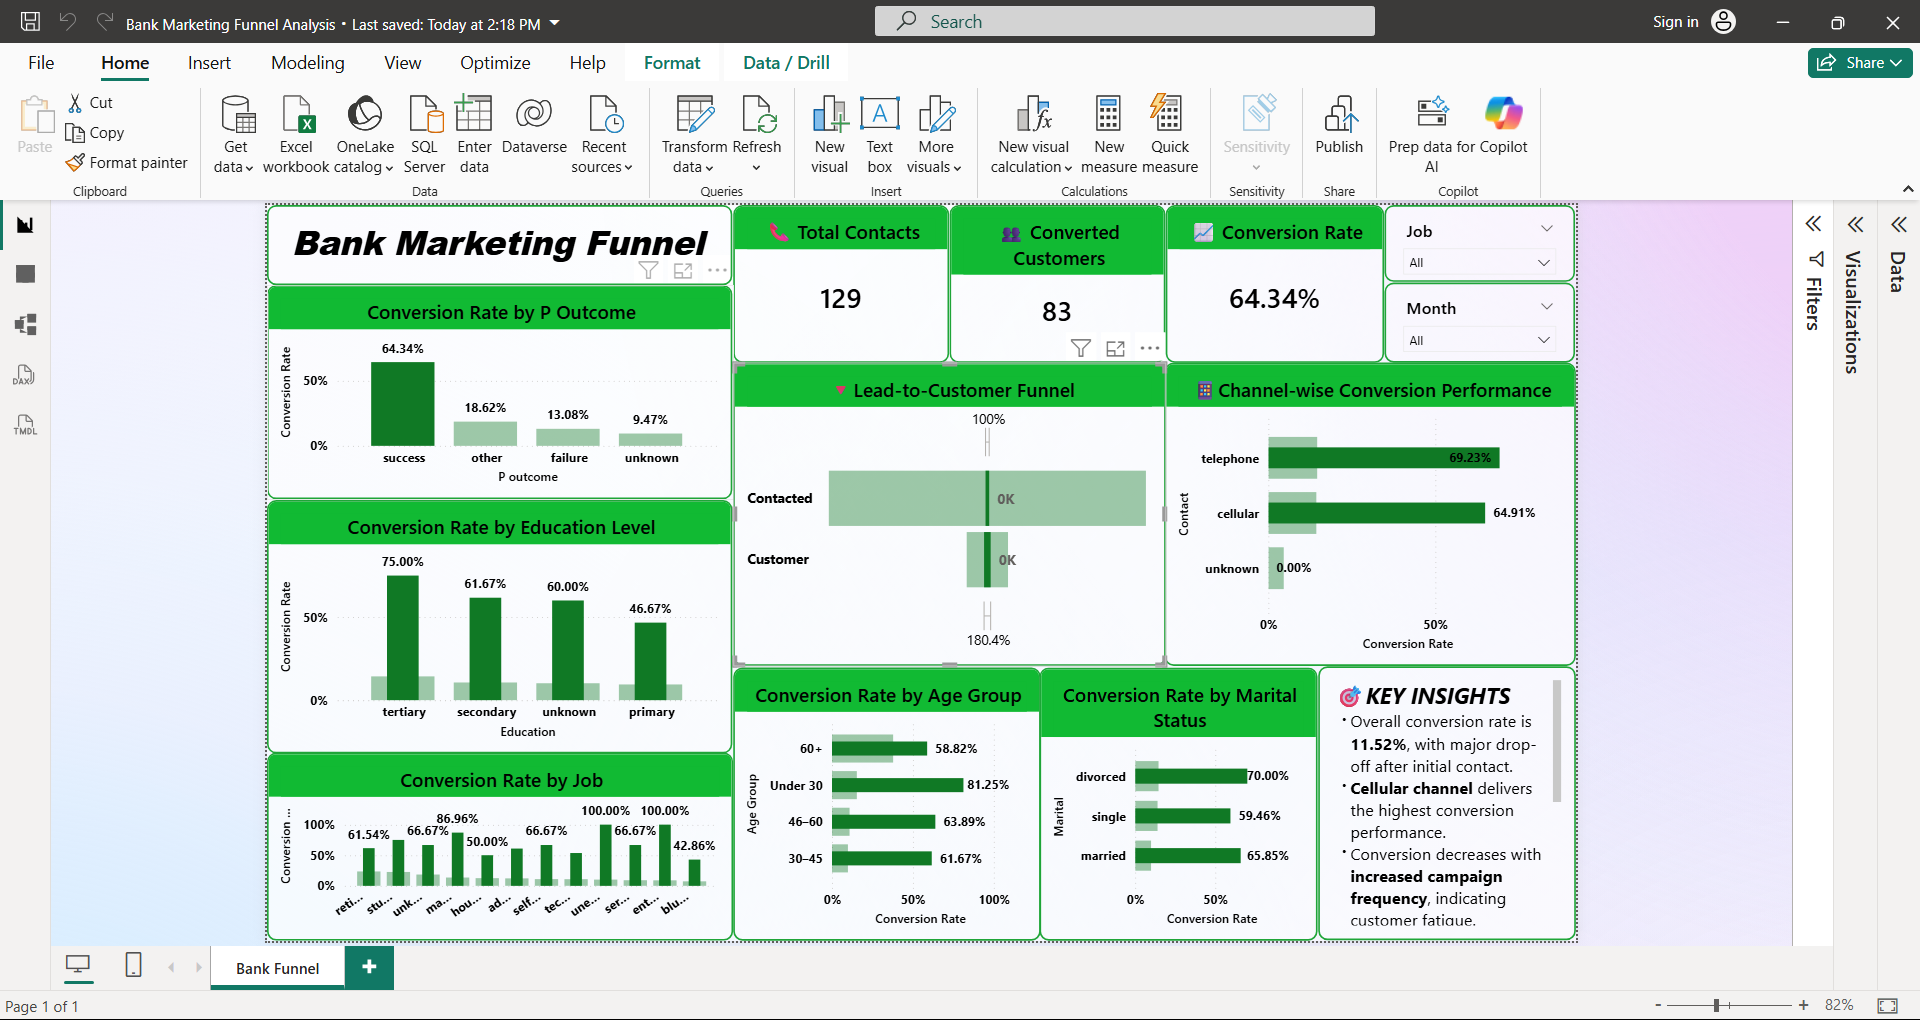

The page's visual inventory and layout, read from the dashboard file:
{"tool":"powerbi","page":{"name":"Page 1","canvas":[1280,720],"ordinal":0},"visuals":[{"type":"card","title":"Total Contacts","fields":{"Values":["Cleaned_Bank_data.Total Contacts"]},"box":[455.6,0,211.3,153.7],"z":0},{"type":"card","title":"Converted Customers","fields":{"Values":["Cleaned_Bank_data.Total Customers"]},"box":[666.9,0,219.6,153.7],"z":1000},{"type":"card","title":"Conversion Rate","fields":{"Values":["Cleaned_Bank_data.Conversion Rate"]},"box":[886.6,0,210.3,154.1],"z":2000},{"type":"funnel","title":"Lead-to-Customer Funnel","fields":{"Y":["Cleaned_Bank_data.Funnel Count"],"Category":["Cleaned_Bank_data.Funnel Stage"]},"box":[455.6,153.7,413,299.1],"z":3000},{"type":"clusteredBarChart","title":"Channel-wise Conversion Performance","fields":{"Category":["Cleaned_Bank_data.Contact"],"Y":["Cleaned_Bank_data.Conversion Rate"]},"box":[868.6,153.7,411.7,299.1],"z":4000},{"type":"slicer","fields":{"Values":["Cleaned_Bank_data.Month"]},"box":[1093.7,75.5,186.6,78.2],"z":5000},{"type":"slicer","fields":{"Values":["Cleaned_Bank_data.Job"]},"box":[1093.7,0,186.6,75.5],"z":6000},{"type":"clusteredBarChart","title":"Conversion Rate by Marital Status","fields":{"Category":["Cleaned_Bank_data.Marital"],"Y":["Cleaned_Bank_data.Conversion Rate"]},"box":[756.1,452.8,271.7,267.6],"z":7000},{"type":"clusteredColumnChart","title":"Conversion Rate by Education Level","fields":{"Category":["Cleaned_Bank_data.Education"],"Y":["Cleaned_Bank_data.Conversion Rate"]},"box":[0,288.2,455.6,248.4],"z":8000},{"type":"clusteredBarChart","fields":{"Category":["Cleaned_Bank_data.Age Group"],"Y":["Cleaned_Bank_data.Conversion Rate"]},"box":[455.6,452.8,300.5,267.6],"z":9000},{"type":"clusteredColumnChart","title":"Conversion Rate by P Outcome","fields":{"Y":["Cleaned_Bank_data.Conversion Rate"],"Category":["Cleaned_Bank_data.P out Come"]},"box":[0,78.2,455.6,209.9],"z":10000},{"type":"textbox","title":"Bank Marketing Funnel","box":[0,0,455.6,78.2],"z":11000},{"type":"clusteredColumnChart","fields":{"Category":["Cleaned_Bank_data.Job"],"Y":["Cleaned_Bank_data.Conversion Rate"]},"box":[0,536,456,184],"z":12000},{"type":"textbox","box":[1028.4,451.2,251.9,267.8],"z":13000}]}

Visuals, with their boxes on the page's 1280x720 design canvas (x1, y1, x2, y2). These are canvas units, not pixel positions in the 1920x1020 screenshot, which may show the page scaled, cropped or inside an application window:
"Total Contacts" card: {"left": 456, "top": 0, "right": 667, "bottom": 154}
"Converted Customers" card: {"left": 667, "top": 0, "right": 886, "bottom": 154}
"Conversion Rate" card: {"left": 887, "top": 0, "right": 1097, "bottom": 154}
"Lead-to-Customer Funnel" funnel: {"left": 456, "top": 154, "right": 869, "bottom": 453}
"Channel-wise Conversion Performance" clusteredBarChart: {"left": 869, "top": 154, "right": 1280, "bottom": 453}
slicer - Cleaned_Bank_data.Month: {"left": 1094, "top": 76, "right": 1280, "bottom": 154}
slicer - Cleaned_Bank_data.Job: {"left": 1094, "top": 0, "right": 1280, "bottom": 76}
"Conversion Rate by Marital Status" clusteredBarChart: {"left": 756, "top": 453, "right": 1028, "bottom": 720}
"Conversion Rate by Education Level" clusteredColumnChart: {"left": 0, "top": 288, "right": 456, "bottom": 537}
clusteredBarChart - Cleaned_Bank_data.Age Group x Cleaned_Bank_data.Conversion Rate: {"left": 456, "top": 453, "right": 756, "bottom": 720}
"Conversion Rate by P Outcome" clusteredColumnChart: {"left": 0, "top": 78, "right": 456, "bottom": 288}
"Bank Marketing Funnel" textbox: {"left": 0, "top": 0, "right": 456, "bottom": 78}
clusteredColumnChart - Cleaned_Bank_data.Job x Cleaned_Bank_data.Conversion Rate: {"left": 0, "top": 536, "right": 456, "bottom": 720}
textbox: {"left": 1028, "top": 451, "right": 1280, "bottom": 719}
